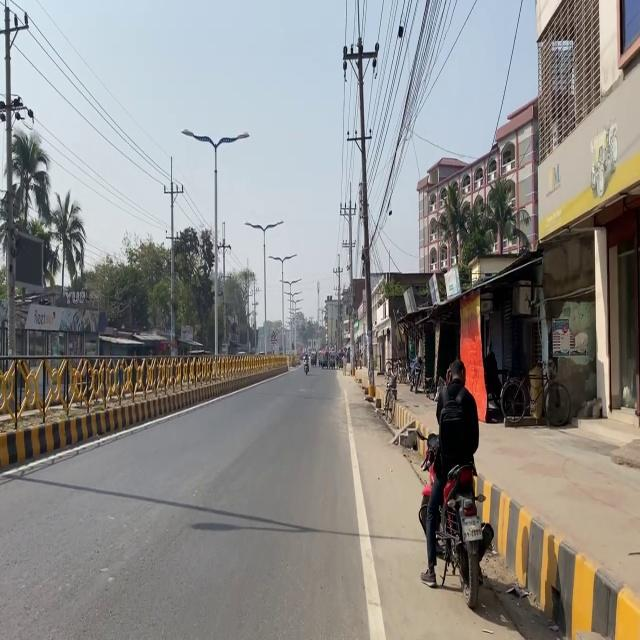Construction-barrier: (337, 370, 386, 638)
Fallen-tree: (418, 432, 494, 609), (302, 356, 309, 374)
Pole: (4, 334, 238, 474)
Pothole: (354, 367, 639, 638)
